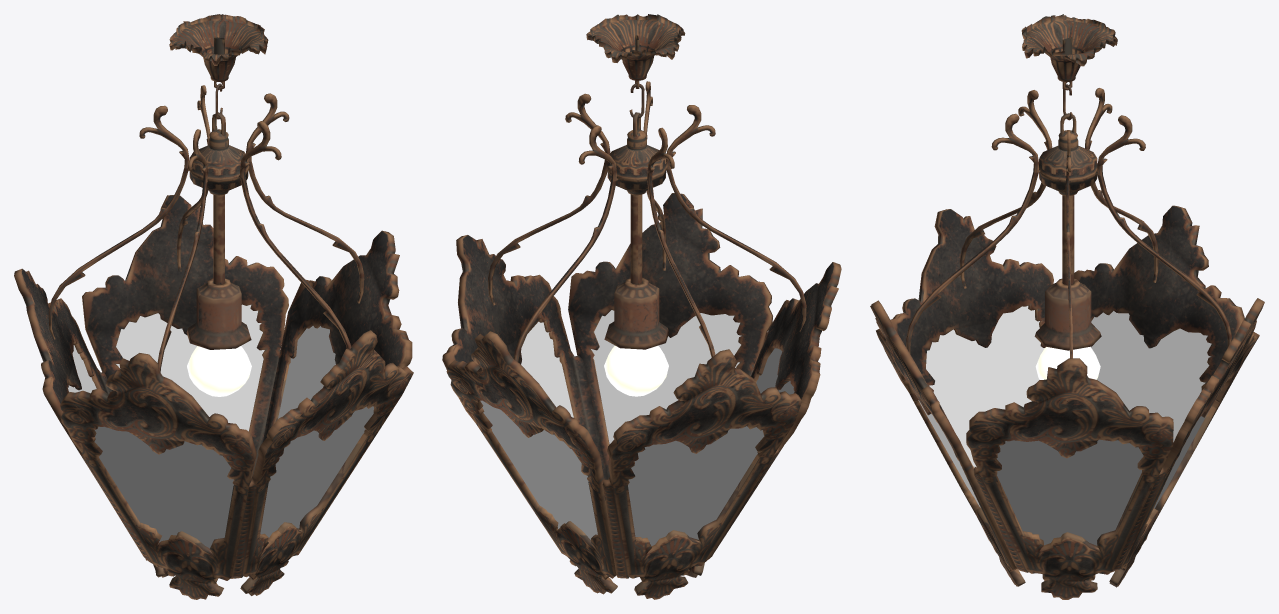
Rendered from lantern_chandelier 1.fbx.
3 renders of one model, left to right at view 1: azimuth 30°, elevation 25°; view 2: azimuth 150°, elevation 25°; view 3: azimuth 270°, elevation 25°, orthographic.
Visible parts, largest first — view 1: lantern_chandelier_LOD0; view 2: lantern_chandelier_LOD0; view 3: lantern_chandelier_LOD0.
Part boxes in pixels (left/top/right/bottom): lantern_chandelier_LOD0: left=14, top=14, right=413, bottom=599; lantern_chandelier_LOD0: left=442, top=14, right=841, bottom=599; lantern_chandelier_LOD0: left=870, top=14, right=1264, bottom=599.
Size of what is drawn, in the model's own units: 50.65 by 76.74 by 50.25.
